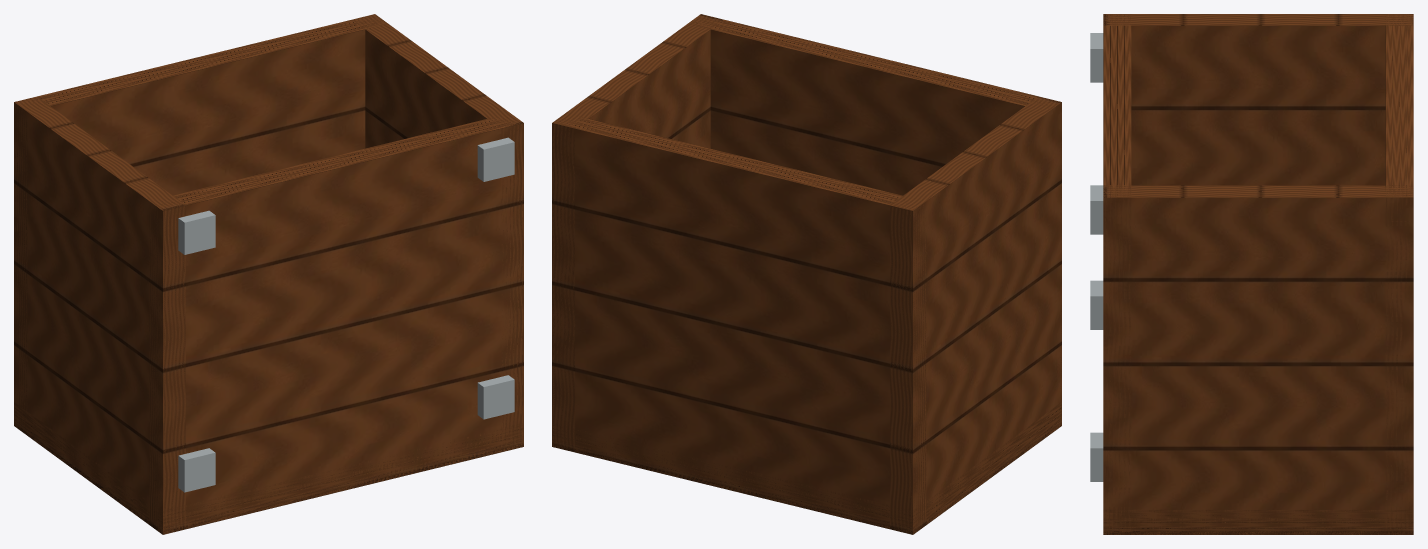
File: suburban-outbreak-interiors-pantry-vegetable-bin-458f4682__19917.glb
3 views of the same model, side by side, from view 1: azimuth 30°, elevation 25°; view 2: azimuth 150°, elevation 25°; view 3: azimuth 270°, elevation 25° (orthographic). The views are drawn at different scales.
Parts seen in each view (by area): view 1: pantry-vegetable-bin; view 2: pantry-vegetable-bin; view 3: pantry-vegetable-bin.
Boxes of the visible parts, x1,y1,x2,y2 form: pantry-vegetable-bin: [14, 14, 523, 534]; pantry-vegetable-bin: [552, 14, 1061, 534]; pantry-vegetable-bin: [1090, 14, 1413, 534].
Bounding box in the file's own units: 0.7 × 0.6 × 0.521.
2 materials, 1 textured.
